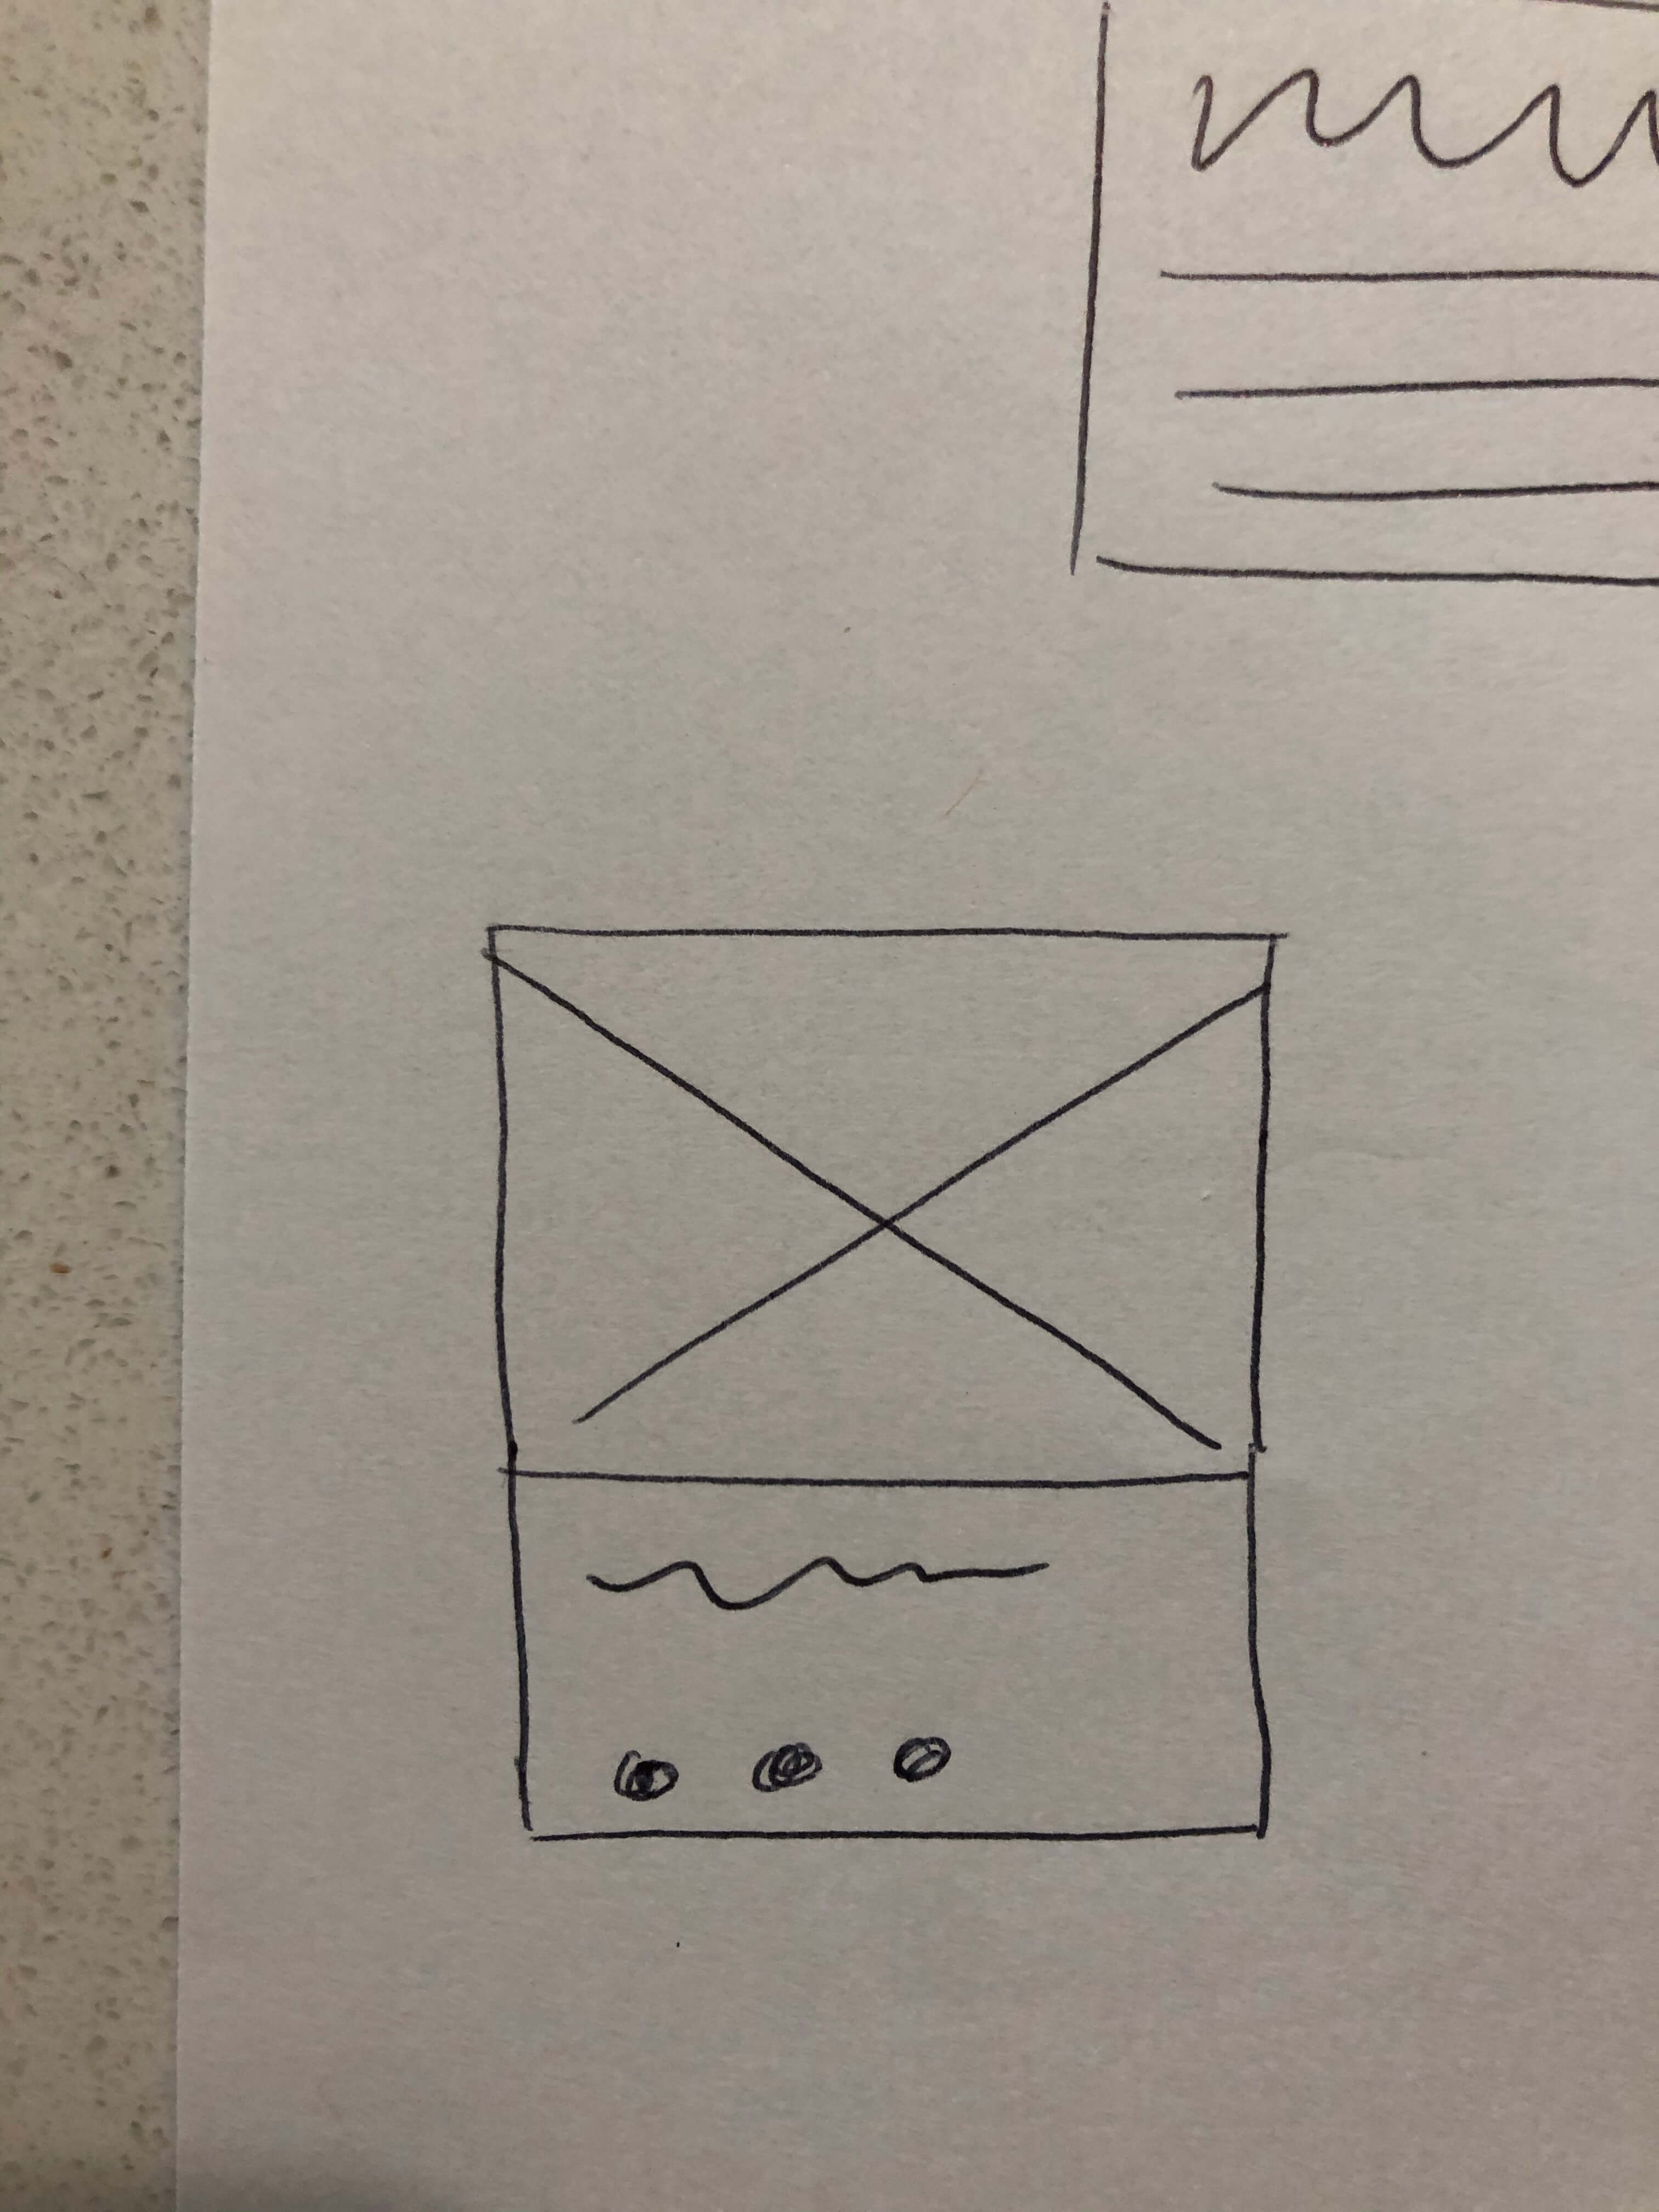card: (458, 878, 1314, 1898)
